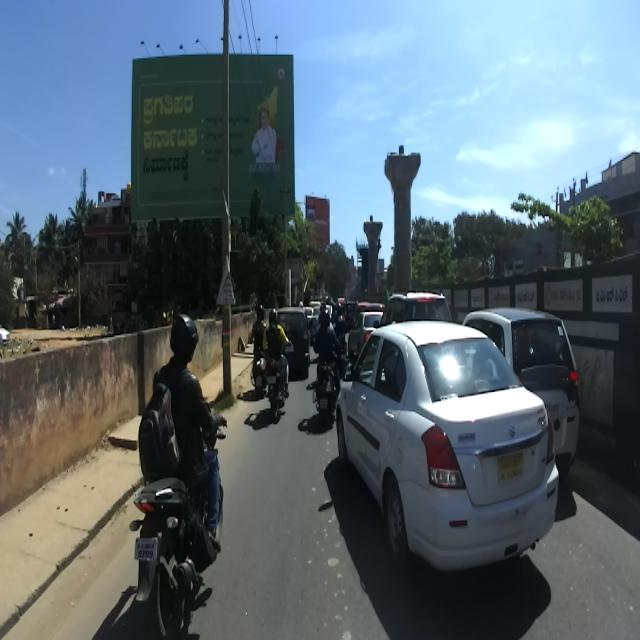car ahead at: (336, 310, 562, 576)
motorcycle ahead at: (130, 310, 228, 640)
